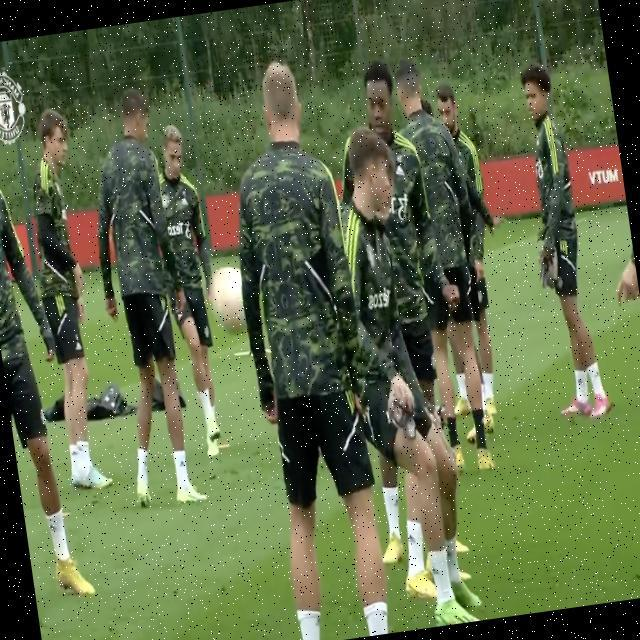Adidas: (393, 161, 405, 179), (48, 519, 58, 536), (407, 529, 416, 545)
